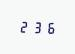six: (43, 20, 54, 34)
three: (31, 19, 42, 34)
two: (18, 19, 29, 33)
